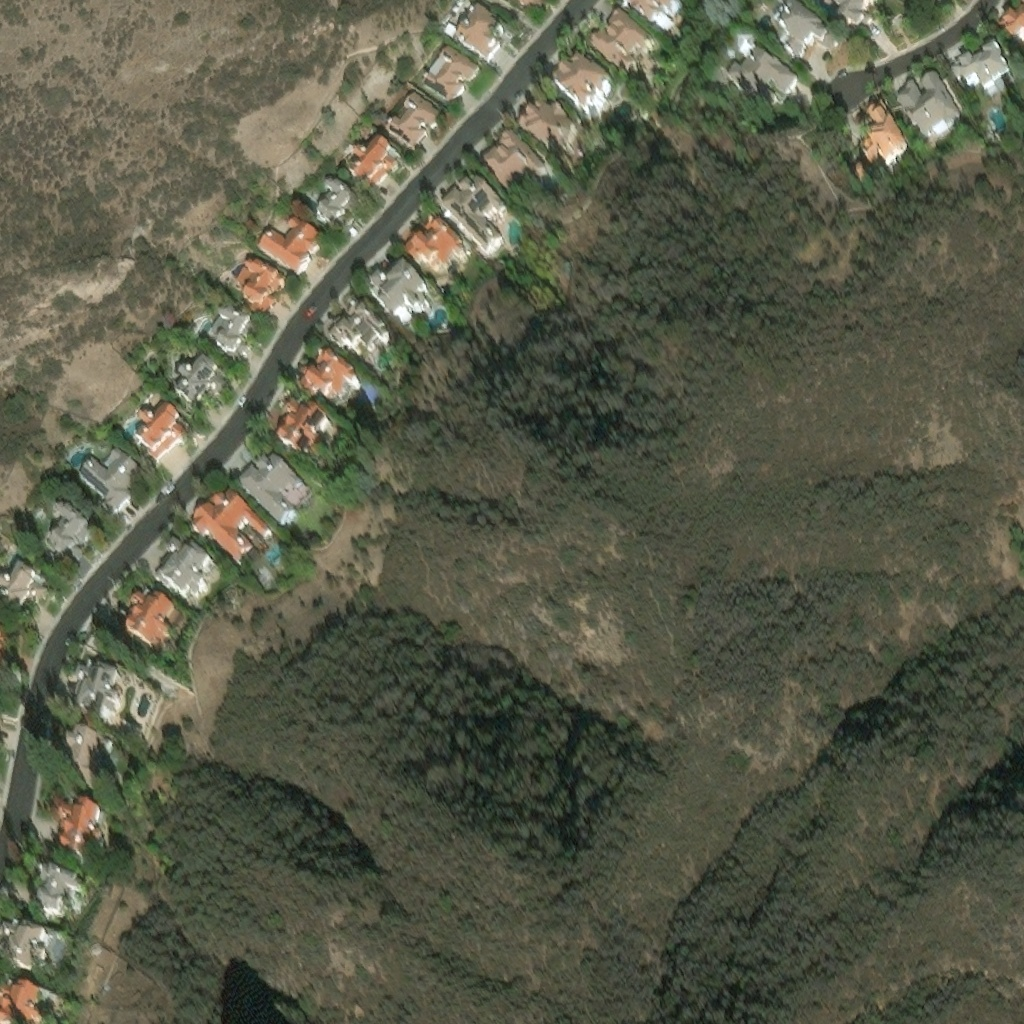0 no-damage: (187, 492, 273, 564), (236, 455, 313, 527), (720, 32, 793, 105), (442, 178, 510, 255), (76, 449, 150, 518), (590, 13, 660, 83), (481, 134, 550, 204), (255, 216, 322, 281), (894, 75, 962, 138), (382, 92, 446, 157), (421, 45, 484, 110), (20, 857, 88, 915), (52, 731, 114, 793), (954, 44, 1020, 102), (296, 351, 362, 409), (769, 0, 841, 52), (367, 264, 429, 324), (232, 260, 290, 323), (553, 61, 616, 118), (861, 97, 913, 165), (329, 305, 395, 358), (153, 539, 212, 598), (135, 403, 191, 465), (404, 221, 470, 273), (346, 136, 403, 196), (173, 357, 233, 414), (119, 593, 178, 650), (273, 404, 331, 460), (71, 666, 123, 725), (453, 7, 503, 68), (51, 798, 105, 854), (204, 309, 261, 362), (48, 504, 95, 568), (520, 111, 580, 160), (312, 178, 363, 234), (0, 559, 50, 611), (619, 0, 685, 37), (0, 983, 59, 1023), (832, 0, 870, 26), (999, 13, 1023, 46), (0, 626, 10, 679), (516, 0, 548, 16), (443, 24, 460, 41), (850, 156, 865, 175), (18, 612, 29, 625)
